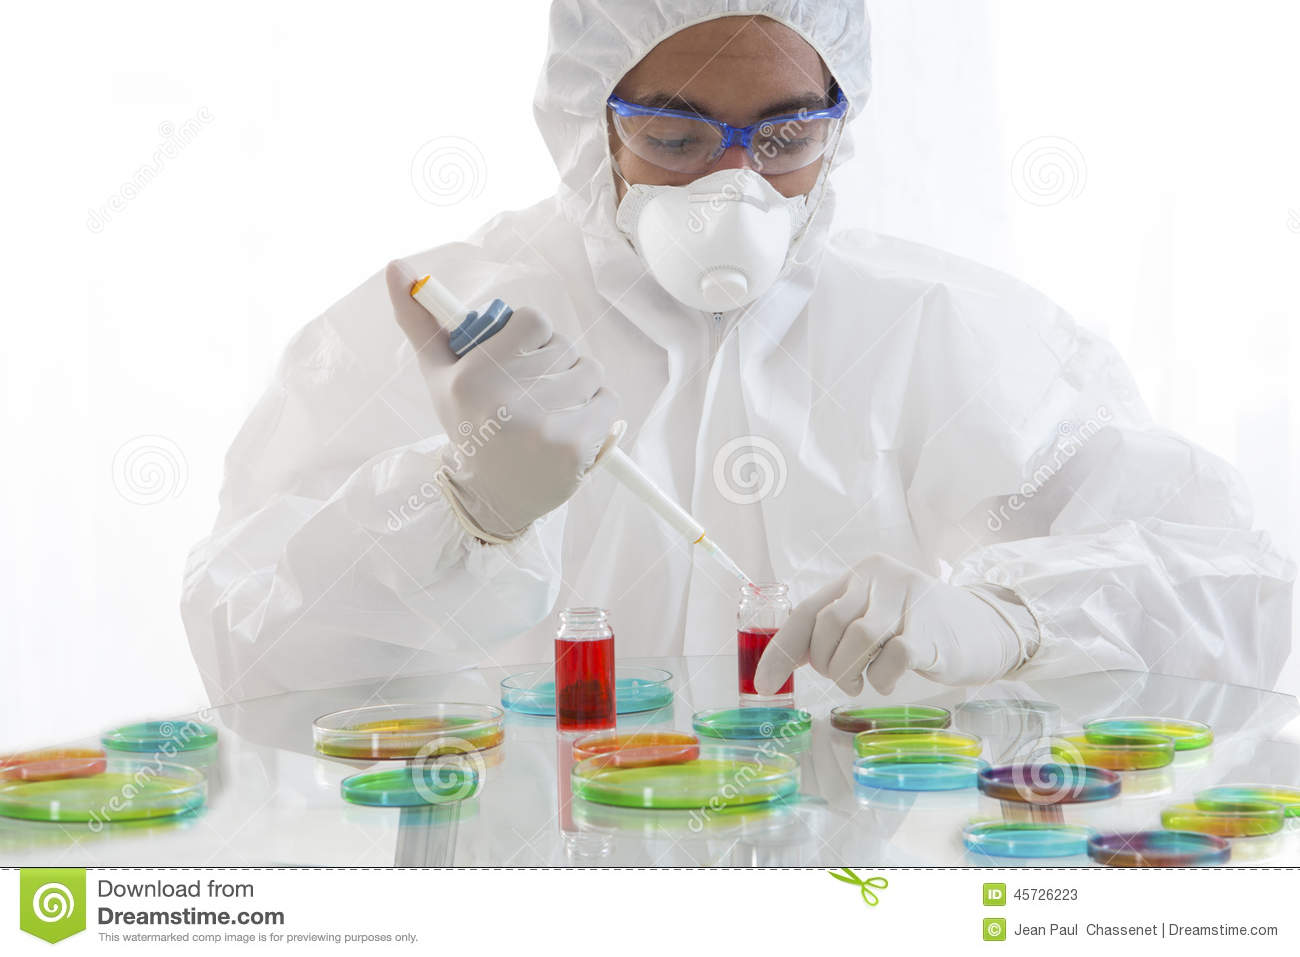Coverall: (185, 3, 1294, 695)
Gloves: (384, 258, 619, 543), (756, 556, 1036, 697)
Goggles: (607, 95, 856, 181)
with_mask: (619, 147, 823, 316)
